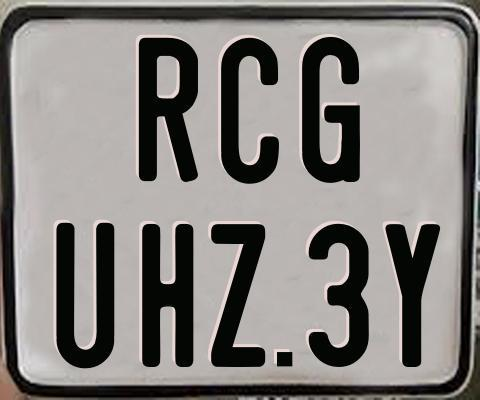3: (309, 224, 374, 372)
C: (218, 38, 280, 184)
G: (300, 34, 358, 182)
H: (142, 222, 197, 368)
R: (138, 37, 197, 181)
U: (55, 220, 113, 366)
Y: (383, 222, 439, 366)
Z: (208, 223, 263, 368)
